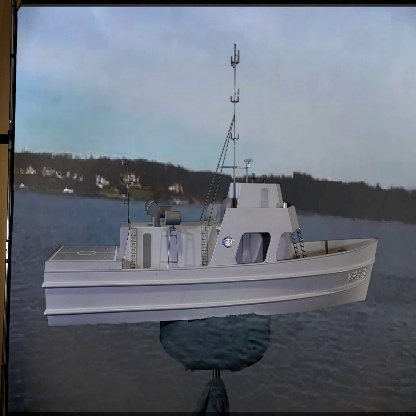YP689: (39, 36, 378, 330)
